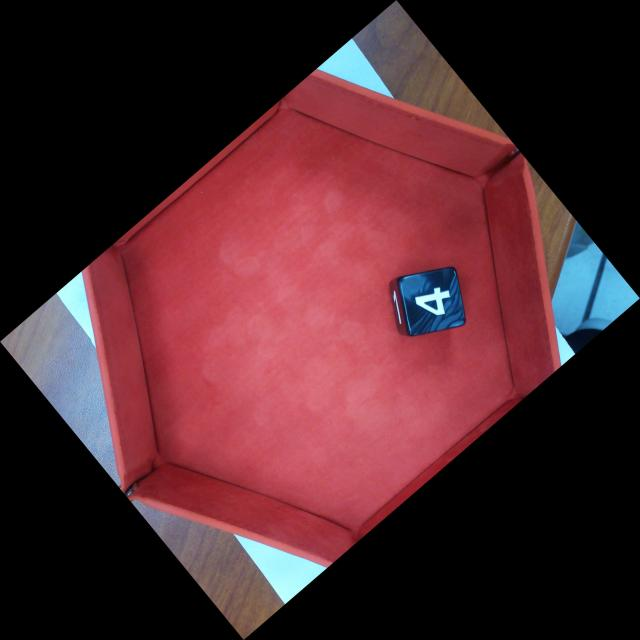dice: (401, 270, 466, 329)
